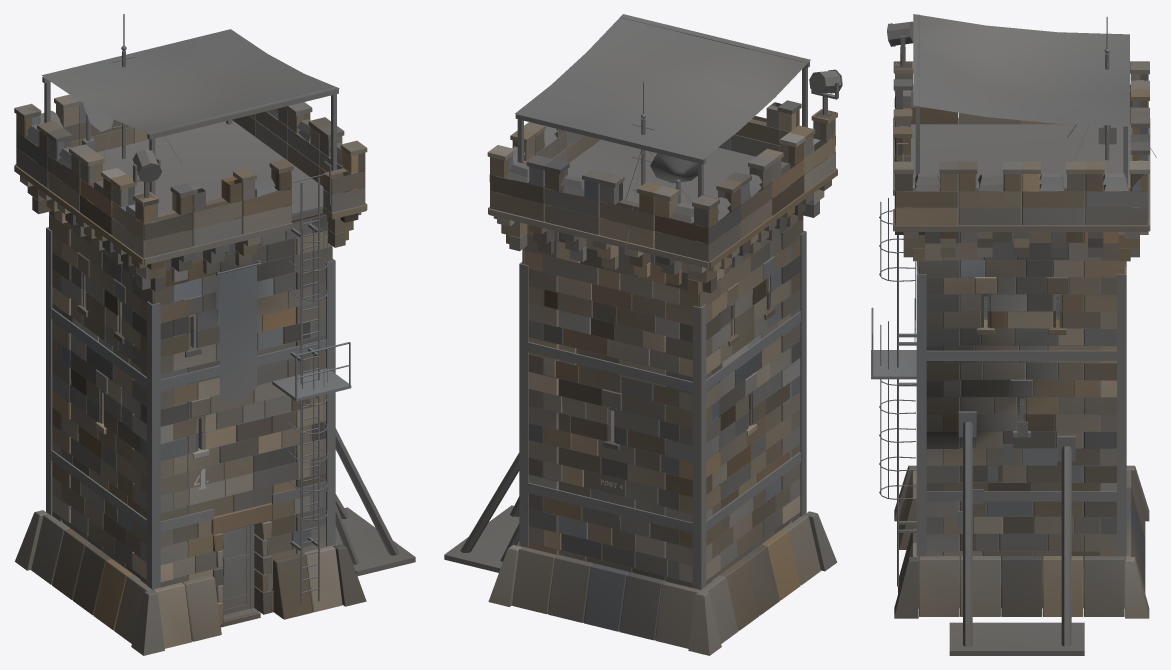
File: Watchtower4_LOD1.glb
The picture shows the model from 3 angles, left to right: view 1: azimuth 30°, elevation 25°; view 2: azimuth 150°, elevation 25°; view 3: azimuth 270°, elevation 25°; orthographic projection.
Parts seen in each view (by area): view 1: Watchtower4_Masonry_LOD1, Watchtower4_Trim_LOD1, Watchtower4_Metal_LOD1, Watchtower4_Canvas_LOD1, Watchtower4_Roof_LOD1, Watchtower4_Hardware_LOD1; view 2: Watchtower4_Masonry_LOD1, Watchtower4_Trim_LOD1, Watchtower4_Metal_LOD1, Watchtower4_Canvas_LOD1, Watchtower4_Roof_LOD1; view 3: Watchtower4_Masonry_LOD1, Watchtower4_Trim_LOD1, Watchtower4_Metal_LOD1, Watchtower4_Canvas_LOD1, Watchtower4_Roof_LOD1.
Part boxes in pixels (left/top/right/bottom): Watchtower4_Masonry_LOD1: left=16, top=104, right=365, bottom=612; Watchtower4_Trim_LOD1: left=14, top=94, right=367, bottom=655; Watchtower4_Metal_LOD1: left=26, top=14, right=351, bottom=620; Watchtower4_Canvas_LOD1: left=41, top=29, right=339, bottom=402; Watchtower4_Roof_LOD1: left=335, top=428, right=415, bottom=576; Watchtower4_Hardware_LOD1: left=302, top=220, right=318, bottom=592; Watchtower4_Masonry_LOD1: left=489, top=102, right=835, bottom=590; Watchtower4_Trim_LOD1: left=487, top=100, right=837, bottom=655; Watchtower4_Metal_LOD1: left=505, top=16, right=842, bottom=589; Watchtower4_Canvas_LOD1: left=515, top=14, right=810, bottom=159; Watchtower4_Roof_LOD1: left=444, top=453, right=519, bottom=572; Watchtower4_Masonry_LOD1: left=894, top=74, right=1148, bottom=608; Watchtower4_Trim_LOD1: left=893, top=61, right=1150, bottom=618; Watchtower4_Metal_LOD1: left=871, top=14, right=1156, bottom=586; Watchtower4_Canvas_LOD1: left=913, top=14, right=1129, bottom=341; Watchtower4_Roof_LOD1: left=949, top=422, right=1084, bottom=655.
Size of the model in its own units: 7.78 by 13.26 by 6.35.
